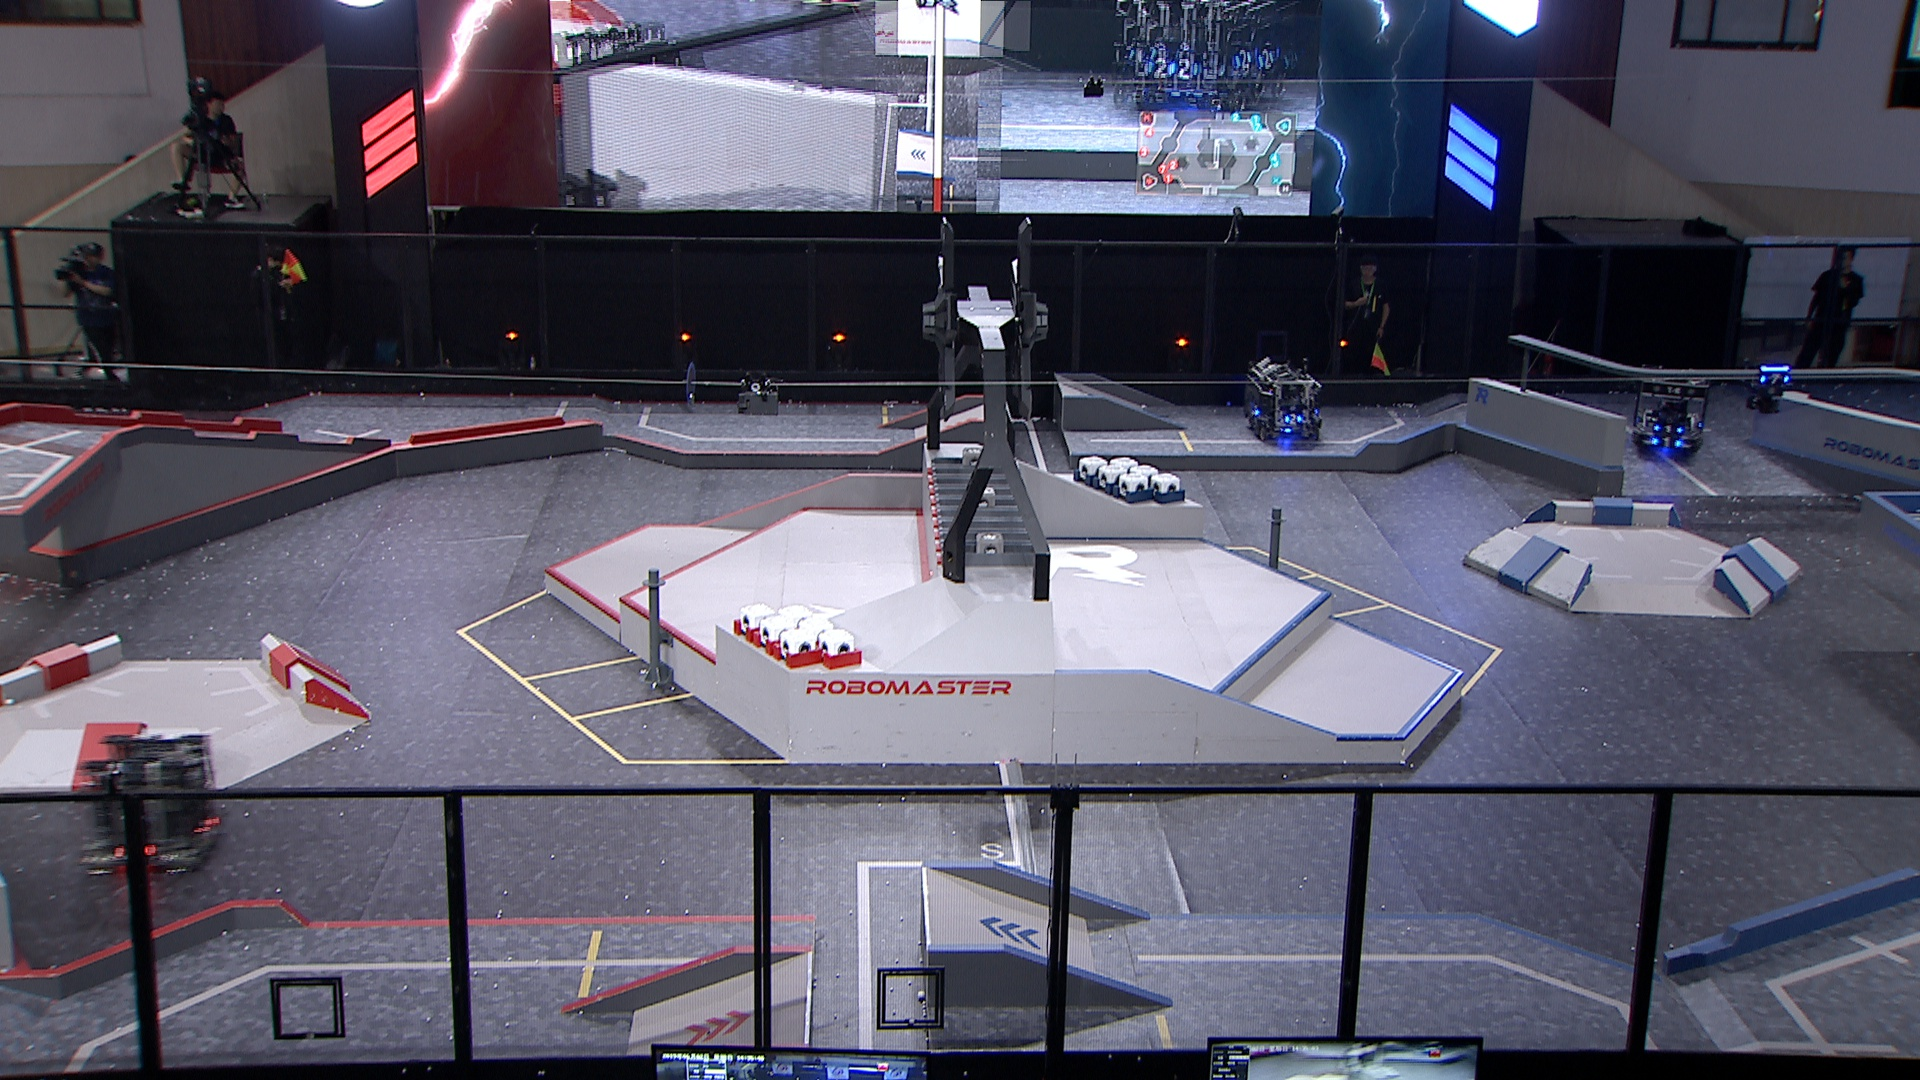armor: (1759, 373, 1789, 384), (1654, 436, 1680, 448), (1652, 425, 1680, 434), (1282, 413, 1302, 425), (1250, 404, 1262, 415)
car: (76, 735, 229, 880), (1629, 363, 1712, 462), (1242, 353, 1327, 447)
watcher: (1745, 353, 1793, 414)
